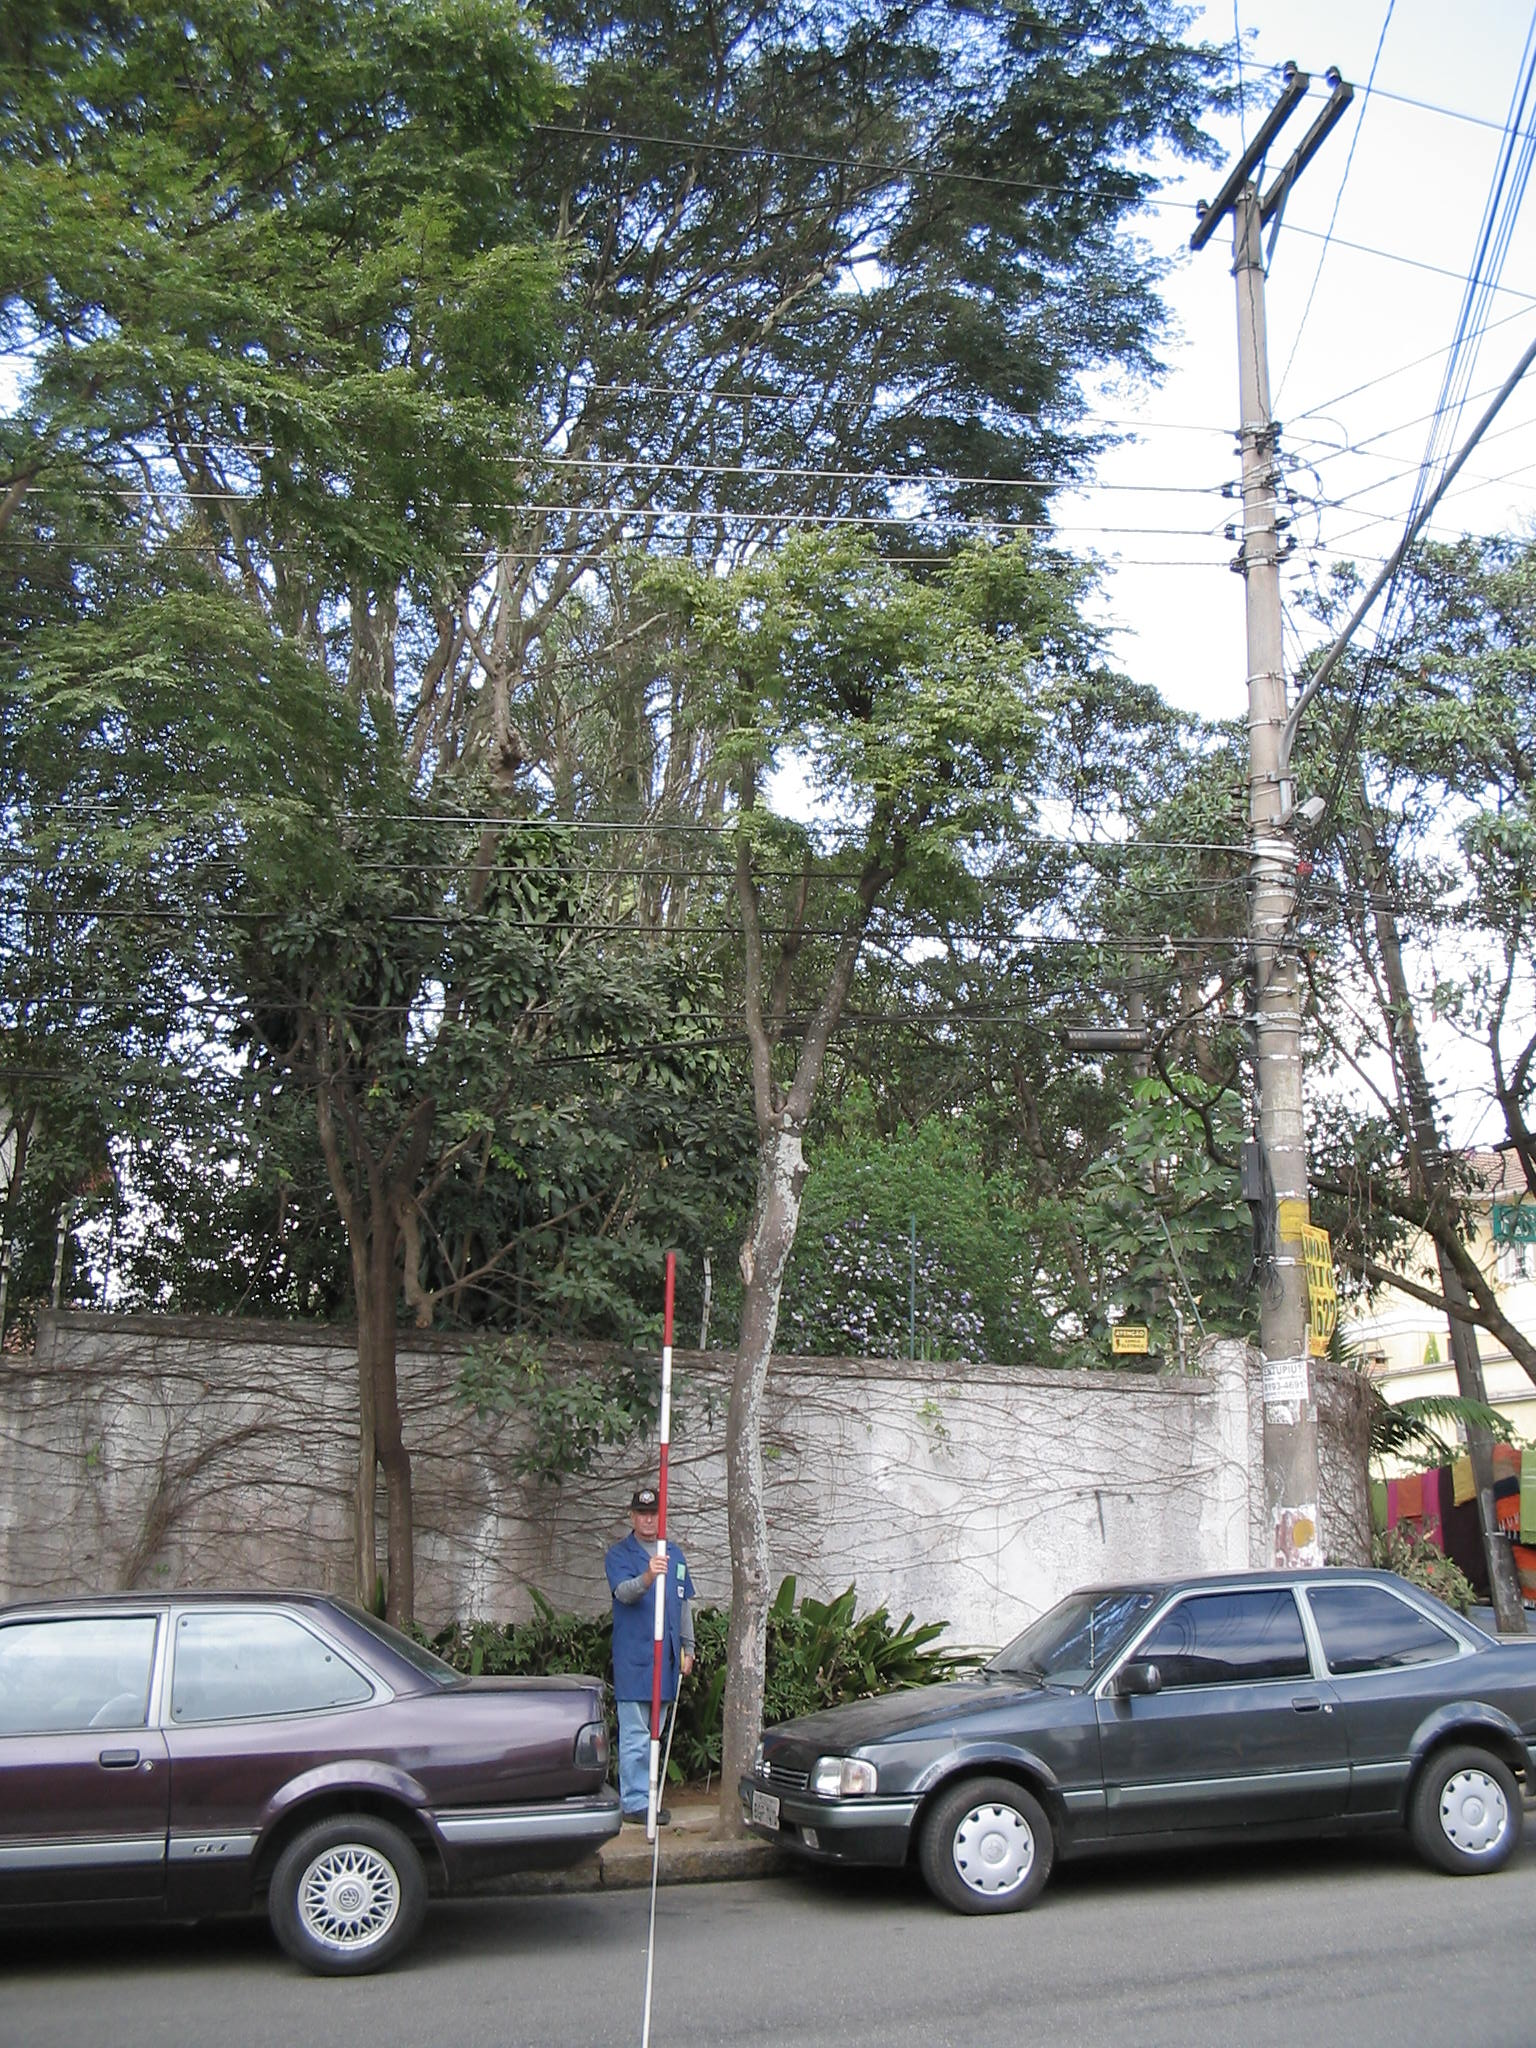crown: (591, 543, 1187, 1039)
stem: (708, 1168, 821, 1825)
stick: (624, 1255, 691, 1832)
tree: (582, 539, 1187, 1827)
